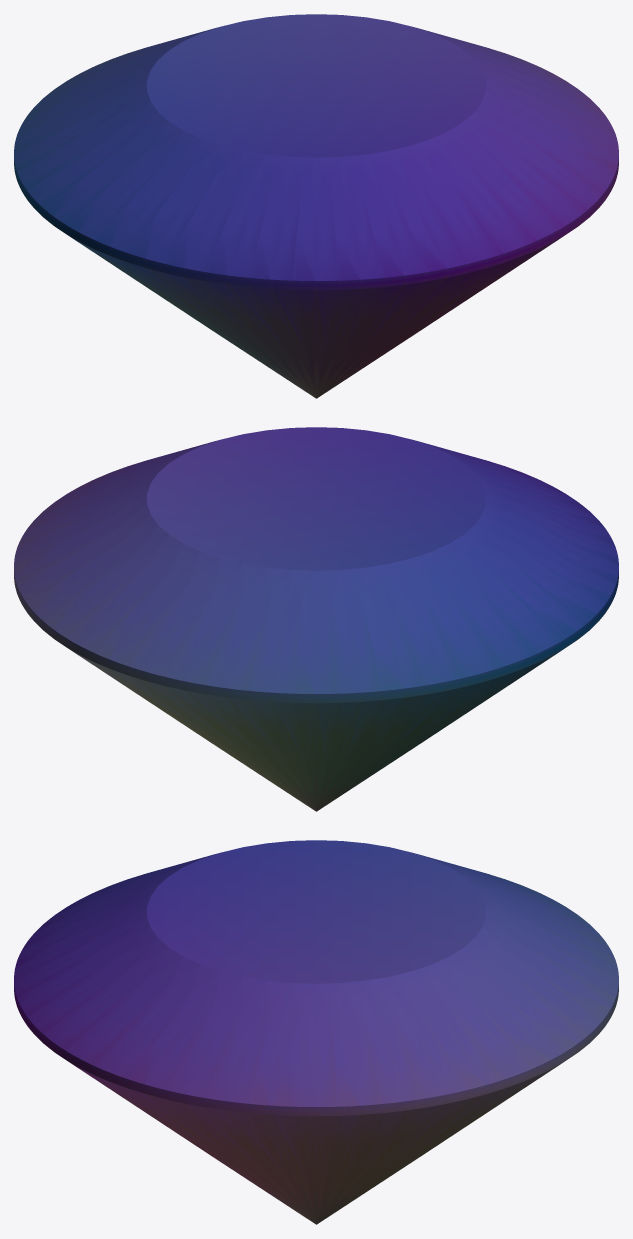
Rendered from Gem.fbx.
The picture shows the model from 3 angles, top to bottom: view 1: azimuth 30°, elevation 25°; view 2: azimuth 150°, elevation 25°; view 3: azimuth 270°, elevation 25°; orthographic projection.
Visible parts, largest first — view 1: Gem; view 2: Gem; view 3: Gem.
Part boxes in pixels (x1=…): Gem: x1=14, y1=14, x2=618, y2=398; Gem: x1=14, y1=427, x2=618, y2=811; Gem: x1=14, y1=840, x2=618, y2=1224.
Size of the model in its own units: 200 by 114 by 200.
